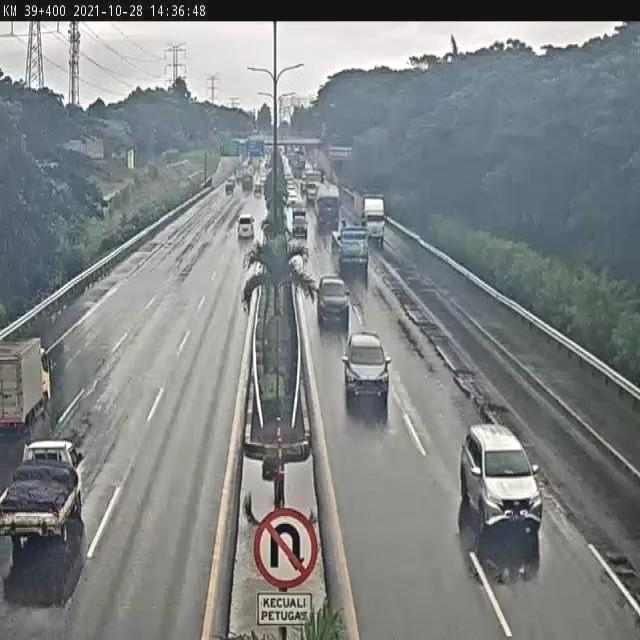Car: (458, 423, 546, 535), (341, 331, 391, 405), (316, 275, 351, 330), (286, 188, 298, 208), (253, 183, 262, 198)
Truck: (0, 440, 84, 546), (0, 338, 51, 440), (330, 224, 370, 275), (353, 187, 386, 247), (316, 185, 340, 231), (304, 169, 323, 203), (291, 202, 307, 238), (235, 168, 244, 185), (252, 156, 260, 171)
Van: (238, 213, 255, 239)
